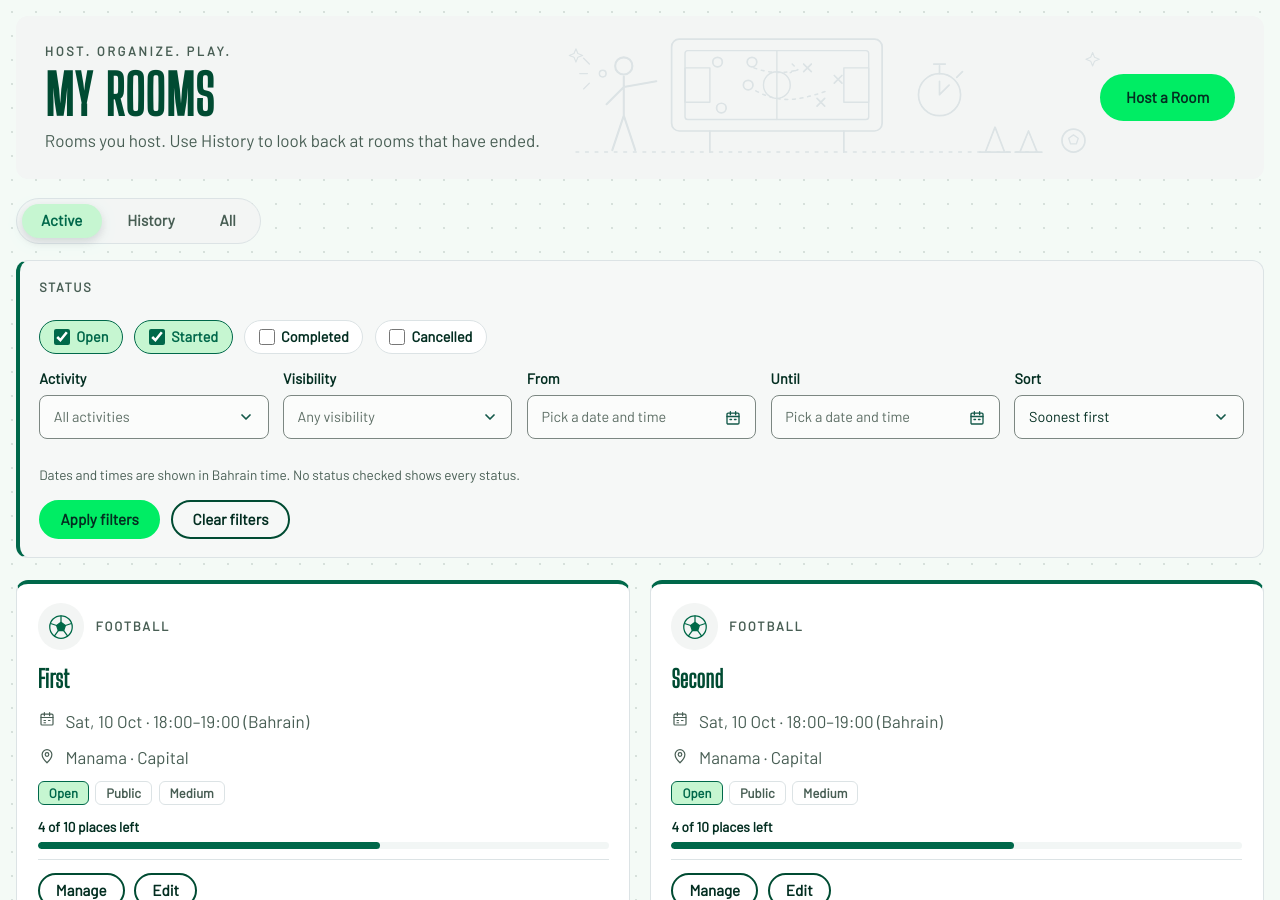
Scenario: My rooms page › switches to the history view through the URL
Check: the heading "First" is shown, box x1=38 y1=664 x2=69 y2=693
Click the link "History" at (151, 220), box x1=127 y1=211 x2=175 y2=229
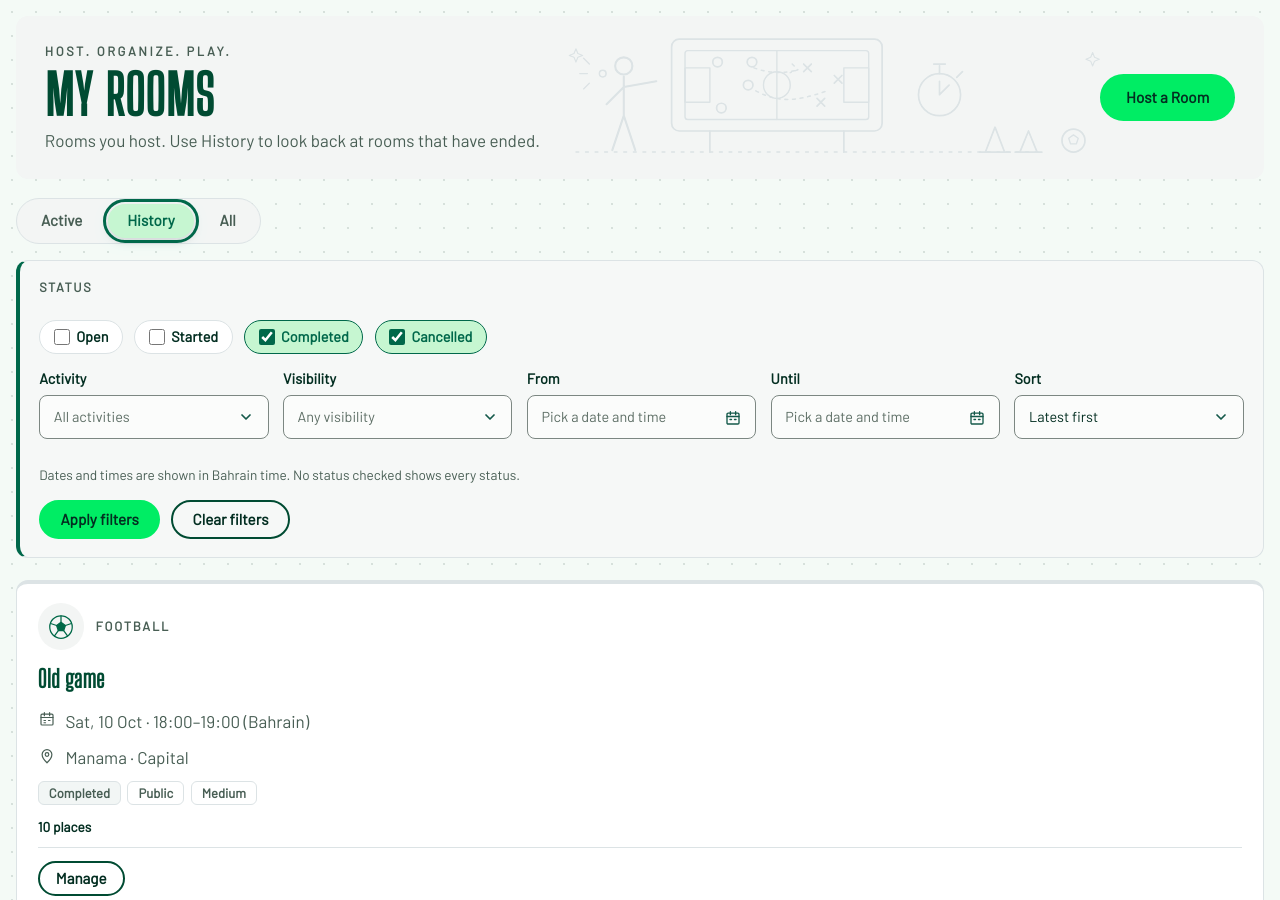
Check: the heading "Old game" is shown, box x1=38 y1=664 x2=105 y2=693
Check: the checkbox labelled "Completed" is checked, box x1=258 y1=329 x2=274 y2=345
Check: the checkbox labelled "Open" is not checked, box x1=54 y1=329 x2=70 y2=345
